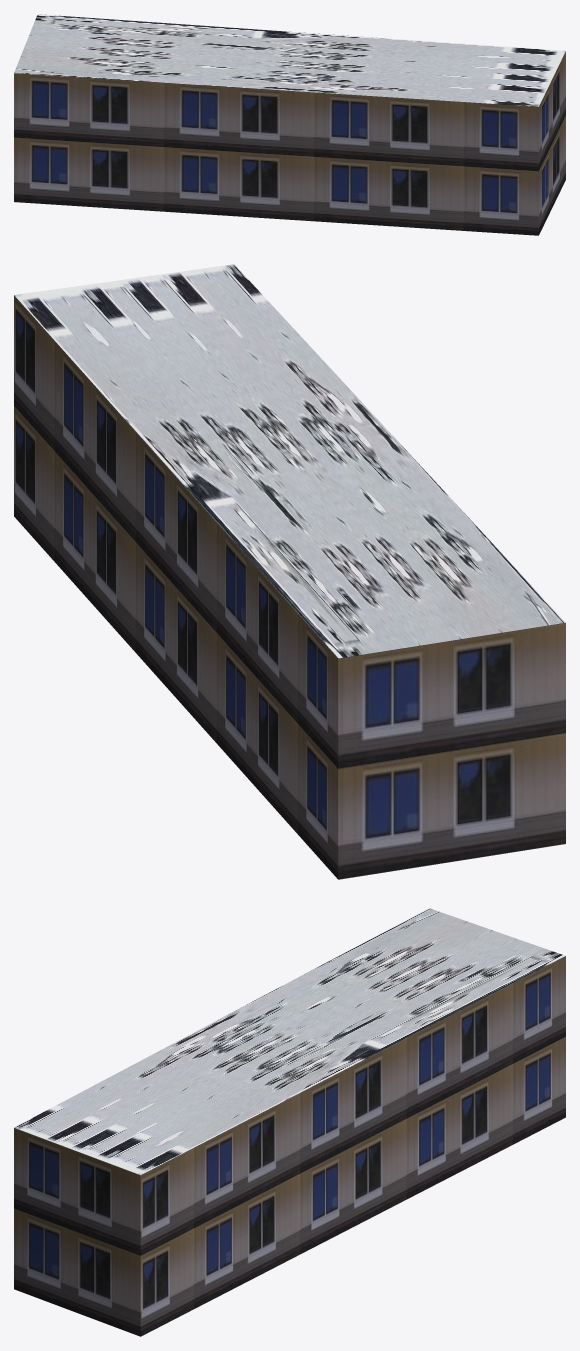
The model's file is ResTex__4818.fbx.
3 renders of one model, top to bottom at view 1: azimuth 30°, elevation 25°; view 2: azimuth 150°, elevation 25°; view 3: azimuth 270°, elevation 25°, orthographic. The views are drawn at different scales.
Visible parts, largest first — view 1: CityEngineMaterial_5_m, CityEngineMaterial_2_m; view 2: CityEngineMaterial_5_m, CityEngineMaterial_2_m; view 3: CityEngineMaterial_5_m, CityEngineMaterial_2_m.
Boxes of the visible parts, x1,y1,x2,y2 form: CityEngineMaterial_5_m: (14,51,565,235); CityEngineMaterial_2_m: (14,14,565,106); CityEngineMaterial_5_m: (14,295,565,879); CityEngineMaterial_2_m: (14,264,565,658); CityEngineMaterial_5_m: (14,956,565,1336); CityEngineMaterial_2_m: (14,908,565,1175).
Bounding box in the file's own units: 21.27 × 6 × 18.58.
Materials: 2 (2 with a texture image).
